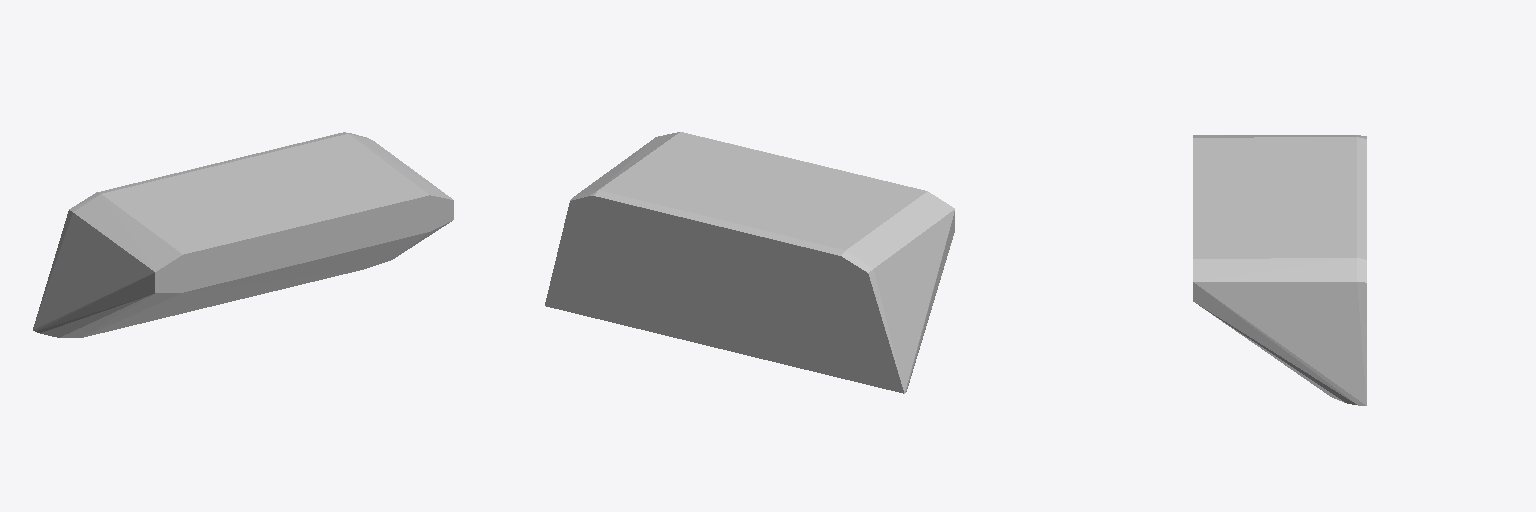
Rendered from ShipScene_collision_46.obj.
3 views of the same model, side by side, from view 1: azimuth 30°, elevation 25°; view 2: azimuth 150°, elevation 25°; view 3: azimuth 270°, elevation 25° (orthographic).
Bounding box in the file's own units: 51.79 × 17.11 × 21.63.